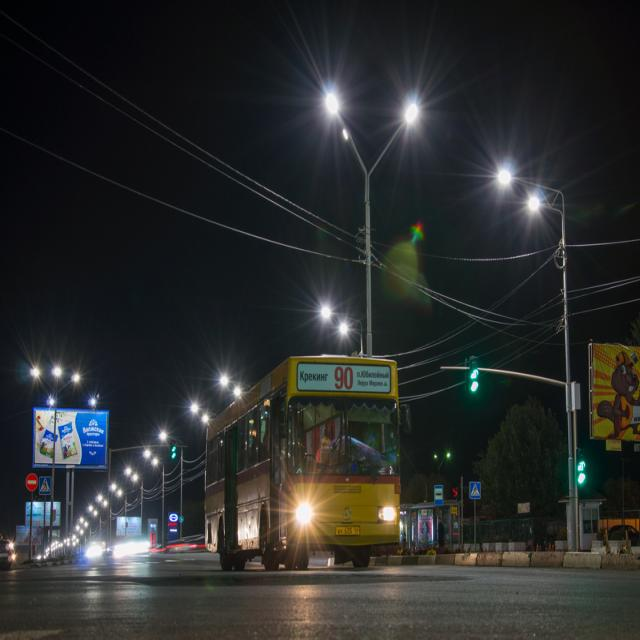number-of-bus: (334, 367, 355, 392)
